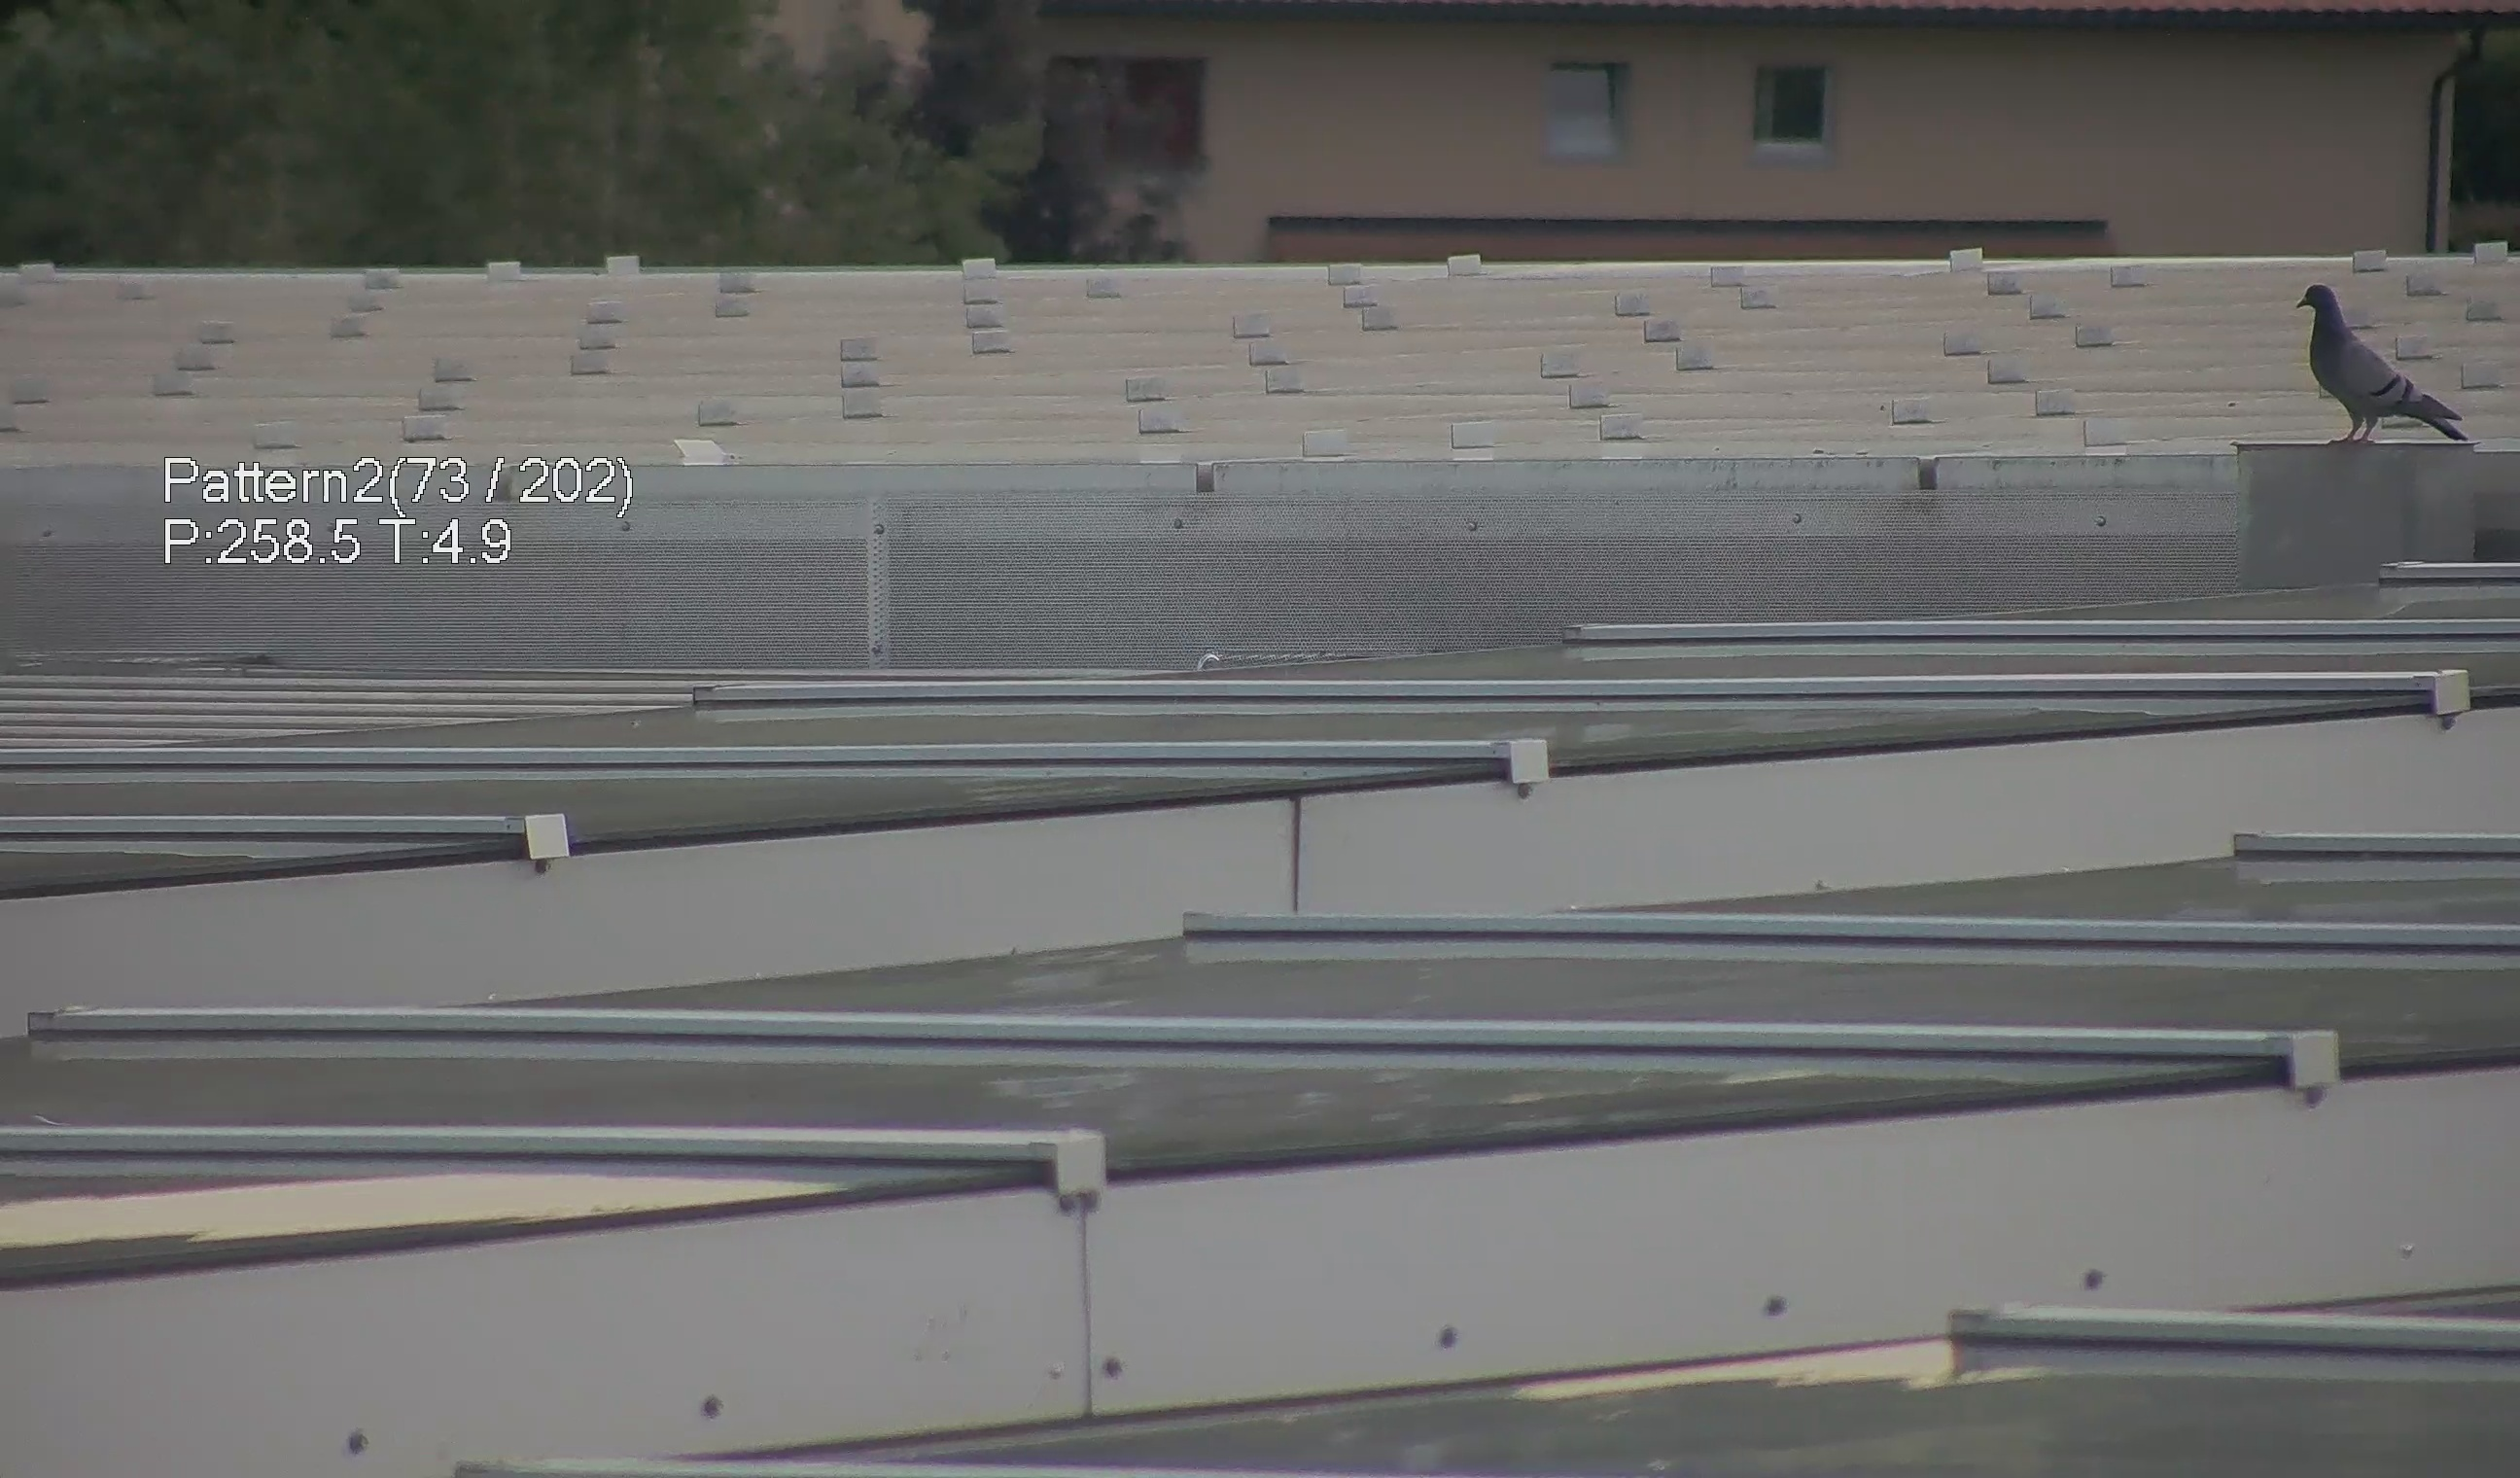Pigeon: (2286, 269, 2481, 454)
